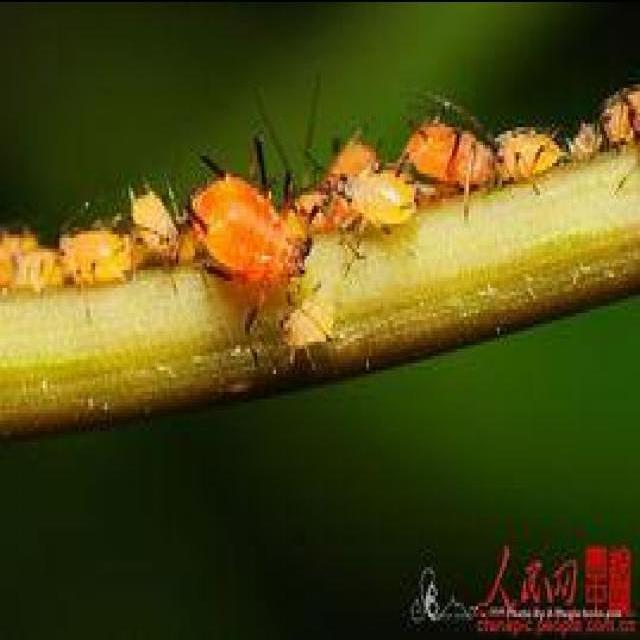aphid: (323, 119, 618, 228), (195, 160, 315, 329), (0, 186, 186, 291)
